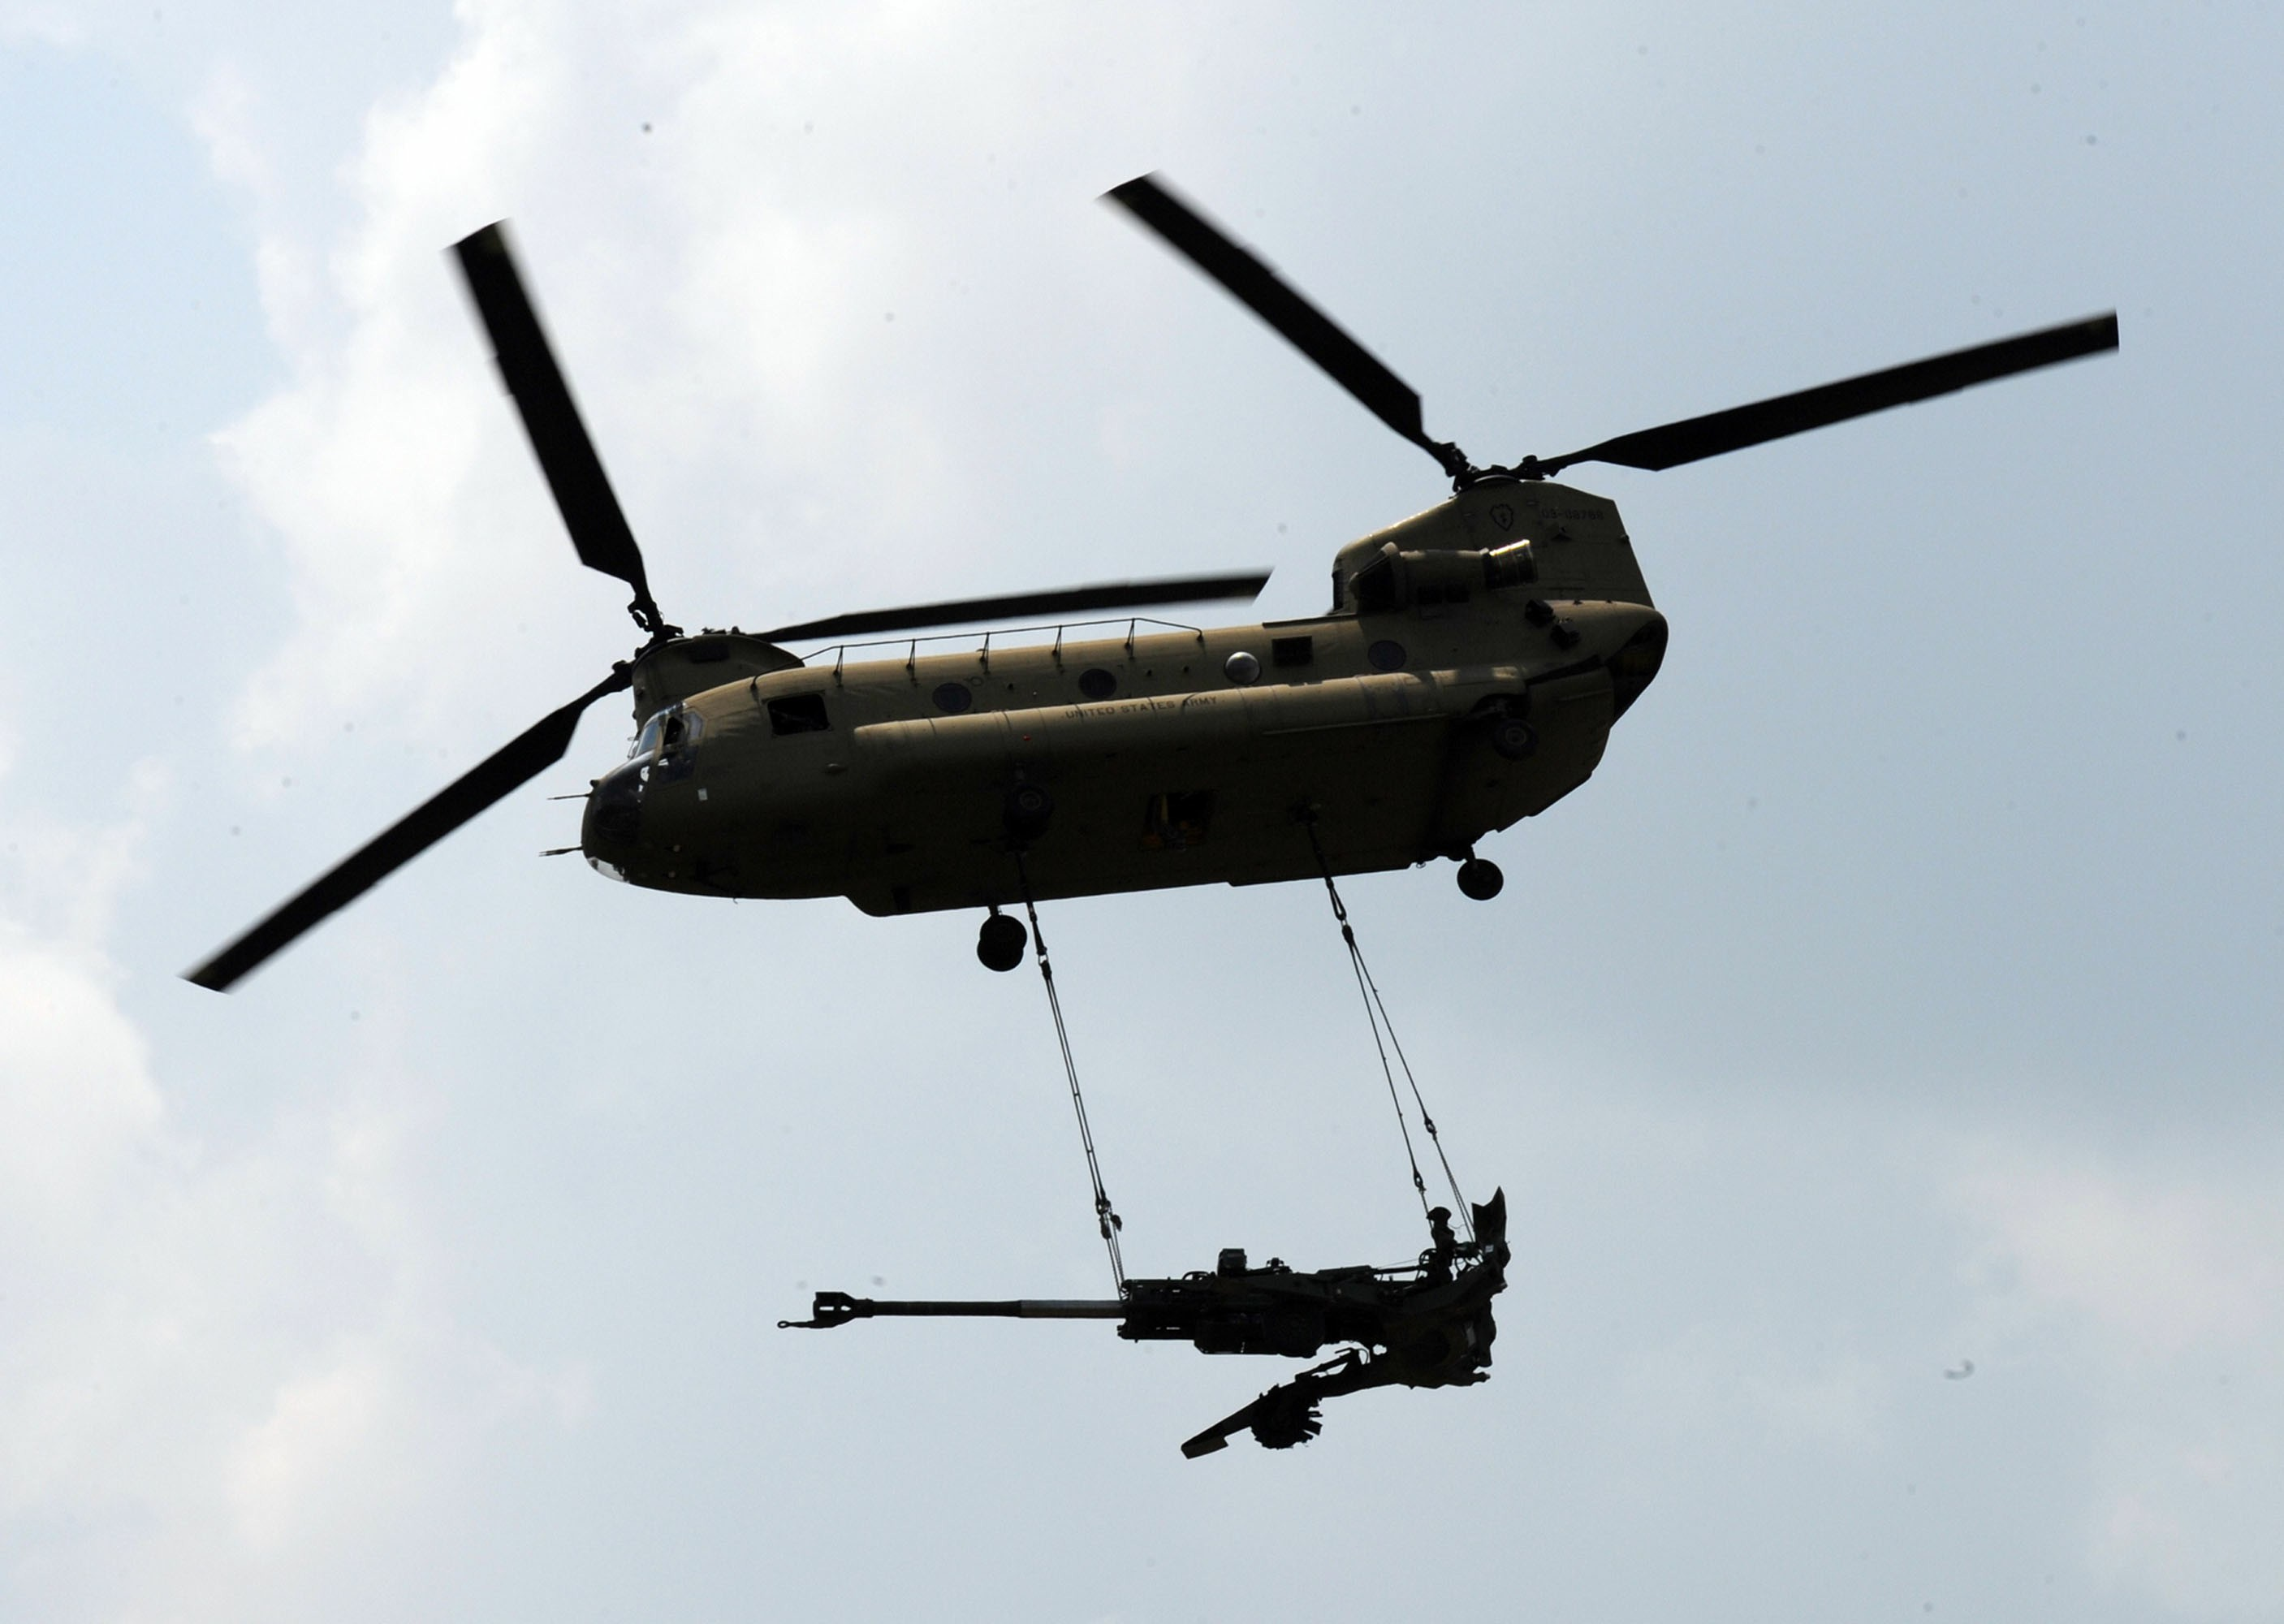chinook: (353, 283, 1759, 990)
